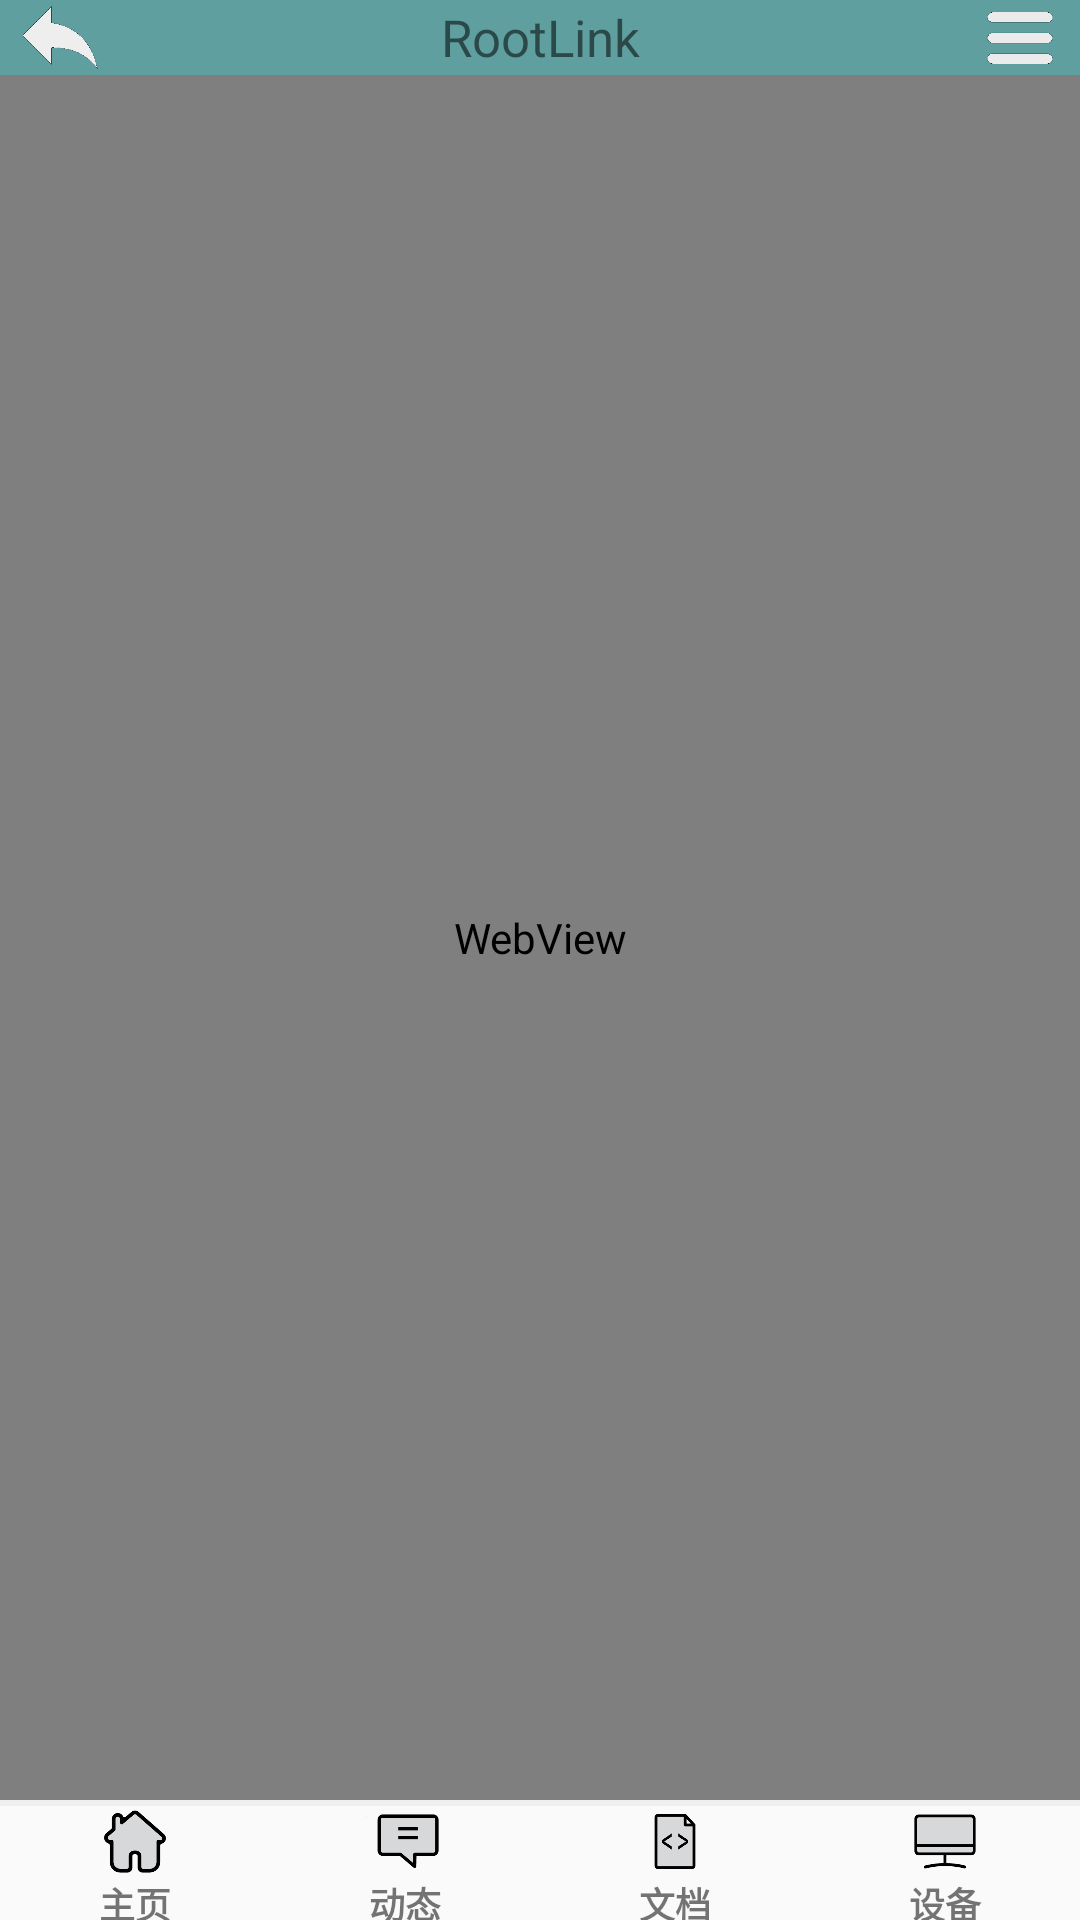

Icon click points for this 1080 x 1920 phone screenshot, format (x=x, y=y):
back: (x=60, y=37)
menu: (x=1020, y=38)
message: (x=408, y=1841)
